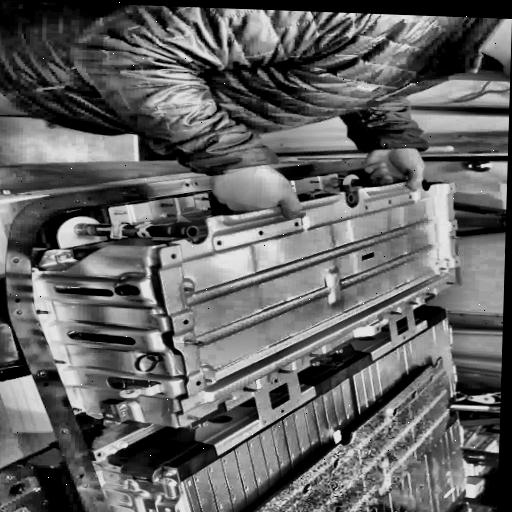battery_module: (145, 180, 456, 430)
